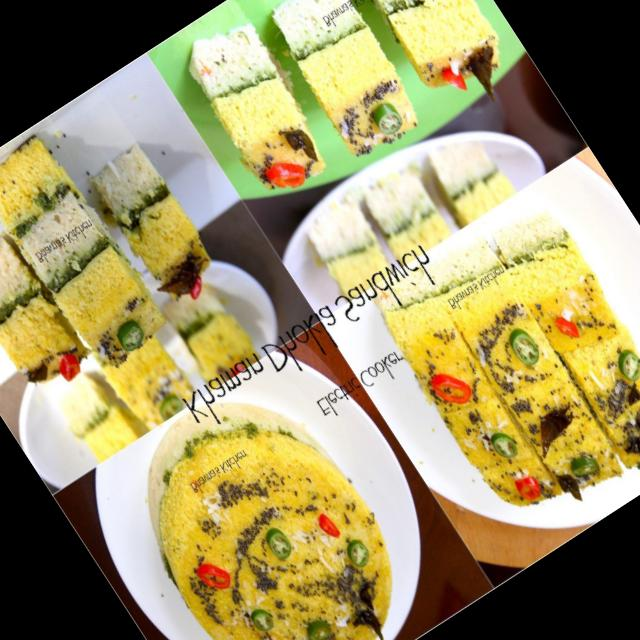dhokla: (0, 78, 281, 457), (377, 211, 640, 543), (113, 384, 435, 640), (174, 11, 353, 217), (269, 0, 438, 166), (353, 0, 524, 119)
